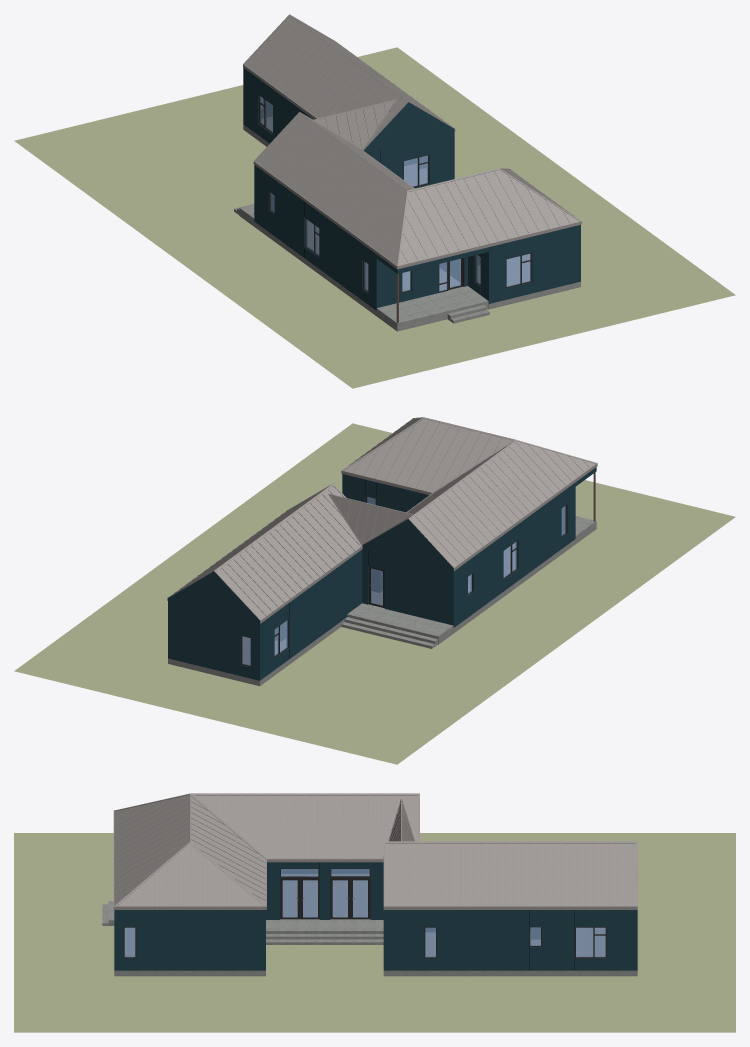
The model's file is BLUE.glb.
3 renders of one model, top to bottom at view 1: azimuth 30°, elevation 25°; view 2: azimuth 150°, elevation 25°; view 3: azimuth 270°, elevation 25°, orthographic. The views are drawn at different scales.
Visible parts, largest first — view 1: C STANDARD MODEL- 17; view 2: C STANDARD MODEL- 17; view 3: C STANDARD MODEL- 17.
Boxes of the visible parts, left/top/right/bottom form: C STANDARD MODEL- 17: left=14, top=14, right=735, bottom=388; C STANDARD MODEL- 17: left=14, top=417, right=735, bottom=764; C STANDARD MODEL- 17: left=14, top=793, right=735, bottom=1032.
Size of the model in its own units: 883 by 230 by 1352.
Materials: 16 (4 with a texture image).
